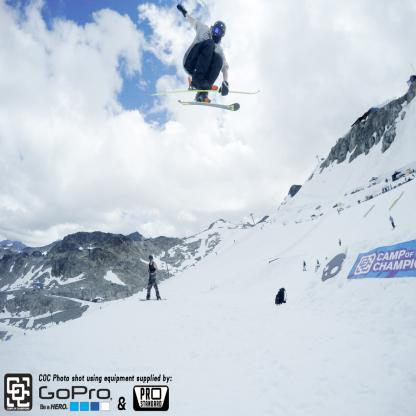Helmet: (210, 20, 226, 44)
